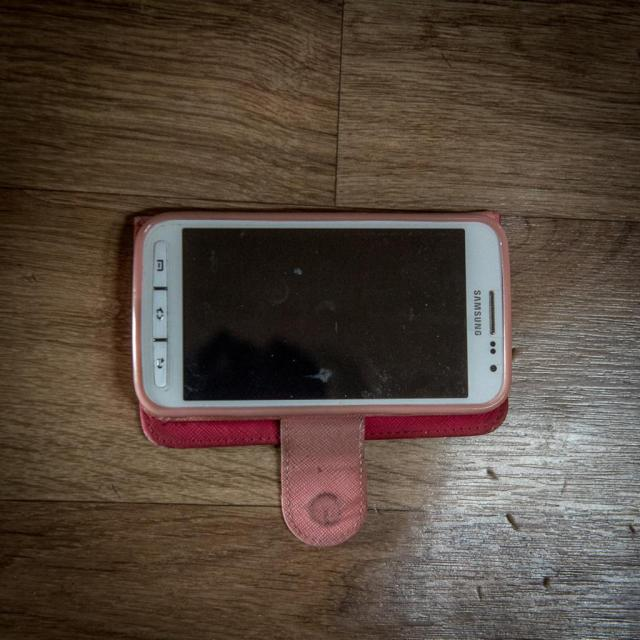Phone: (128, 206, 513, 420)
